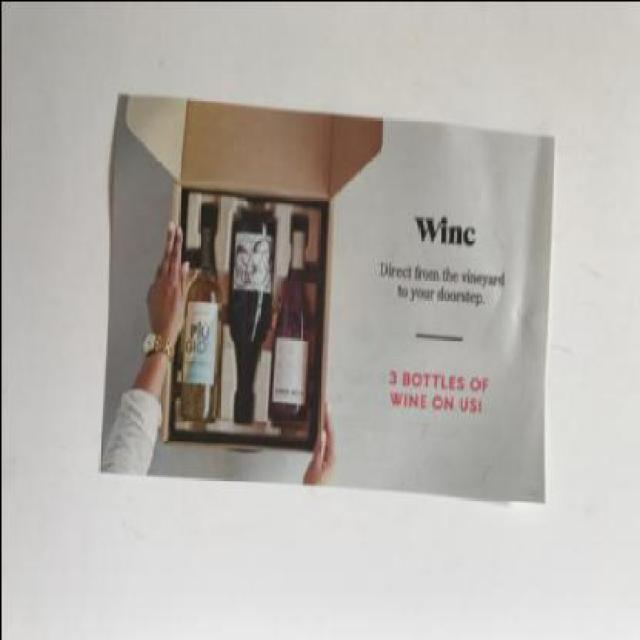PAPER: (99, 97, 555, 506)
